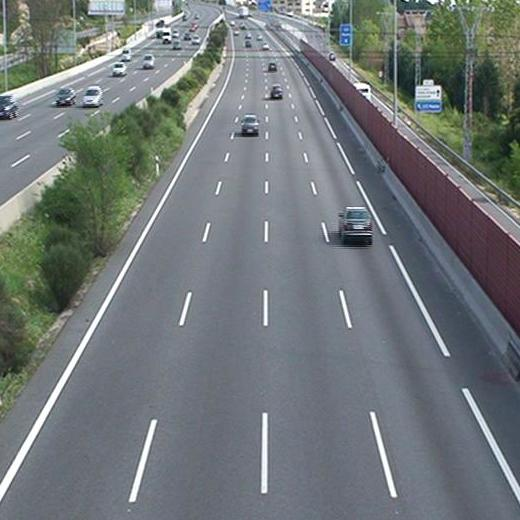car: (339, 206, 374, 242), (239, 115, 259, 135), (269, 82, 284, 100), (267, 61, 279, 73)
